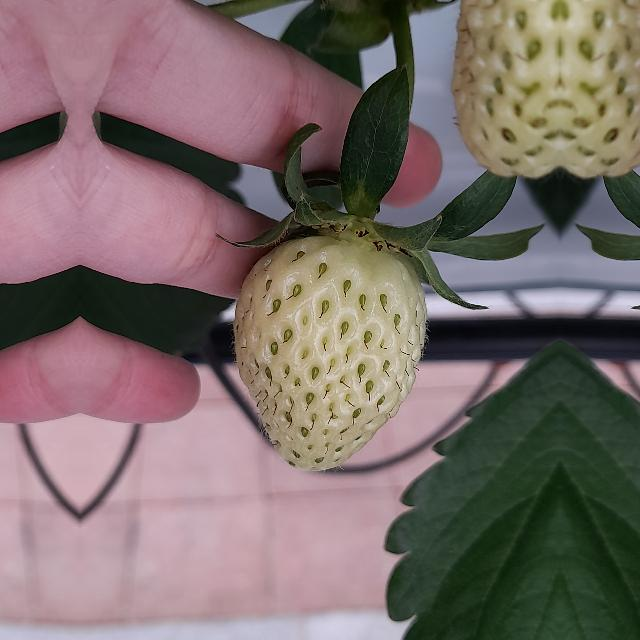Health_25: (232, 230, 426, 470), (451, 2, 559, 182), (561, 2, 640, 181)
